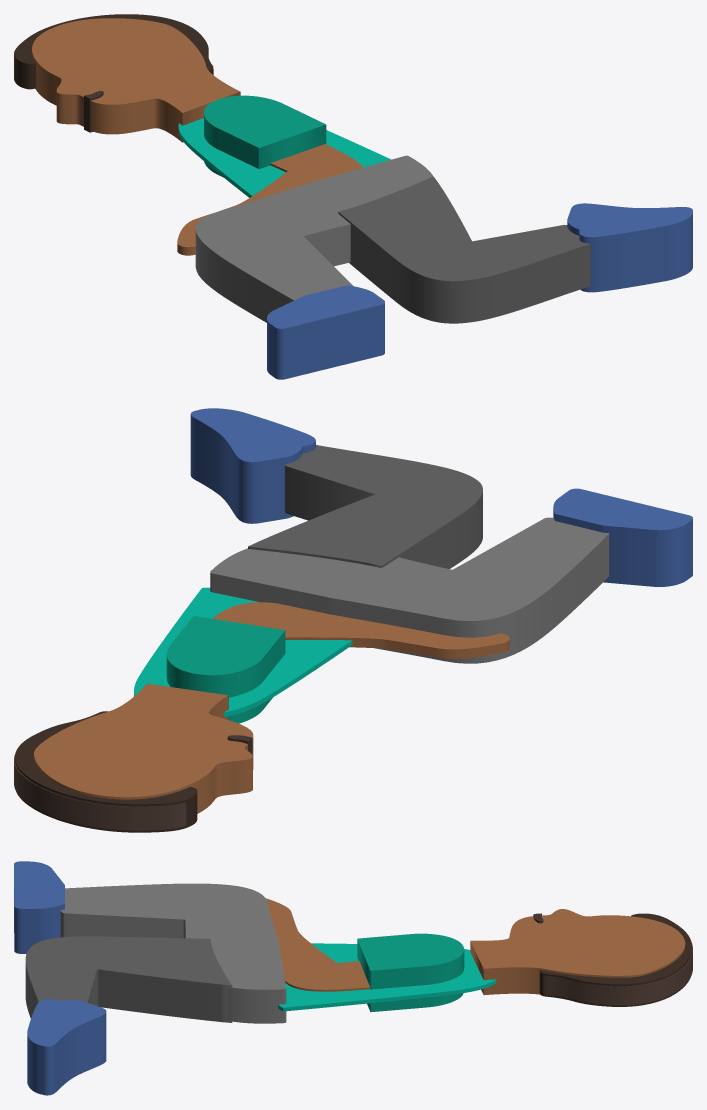
The model's file is emoji_u1f9ce_1f3fe_200d_2642.glb.
3 views of the same model, one above another, from view 1: azimuth 30°, elevation 25°; view 2: azimuth 150°, elevation 25°; view 3: azimuth 270°, elevation 25° (orthographic). The views are drawn at different scales.
Parts seen in each view (by area): view 1: emoji_u1f9ce_1f3fe_200d_2642; view 2: emoji_u1f9ce_1f3fe_200d_2642; view 3: emoji_u1f9ce_1f3fe_200d_2642.
Boxes of the visible parts, x1=… form: emoji_u1f9ce_1f3fe_200d_2642: x1=14, y1=14, x2=692, y2=379; emoji_u1f9ce_1f3fe_200d_2642: x1=14, y1=408, x2=692, y2=832; emoji_u1f9ce_1f3fe_200d_2642: x1=14, y1=861, x2=692, y2=1095.
Size of the model in its own units: 0.0213 by 0.0026 by 0.0327.
